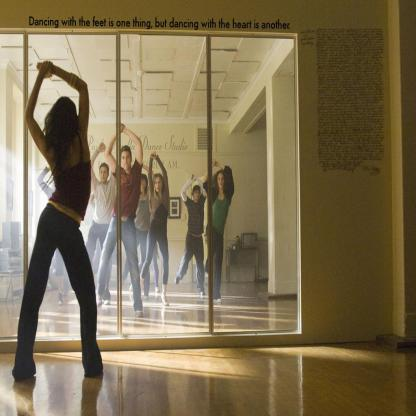face: (122, 153, 131, 171), (155, 178, 163, 193), (101, 167, 108, 183), (219, 174, 226, 189), (194, 189, 201, 201), (140, 178, 146, 190)
